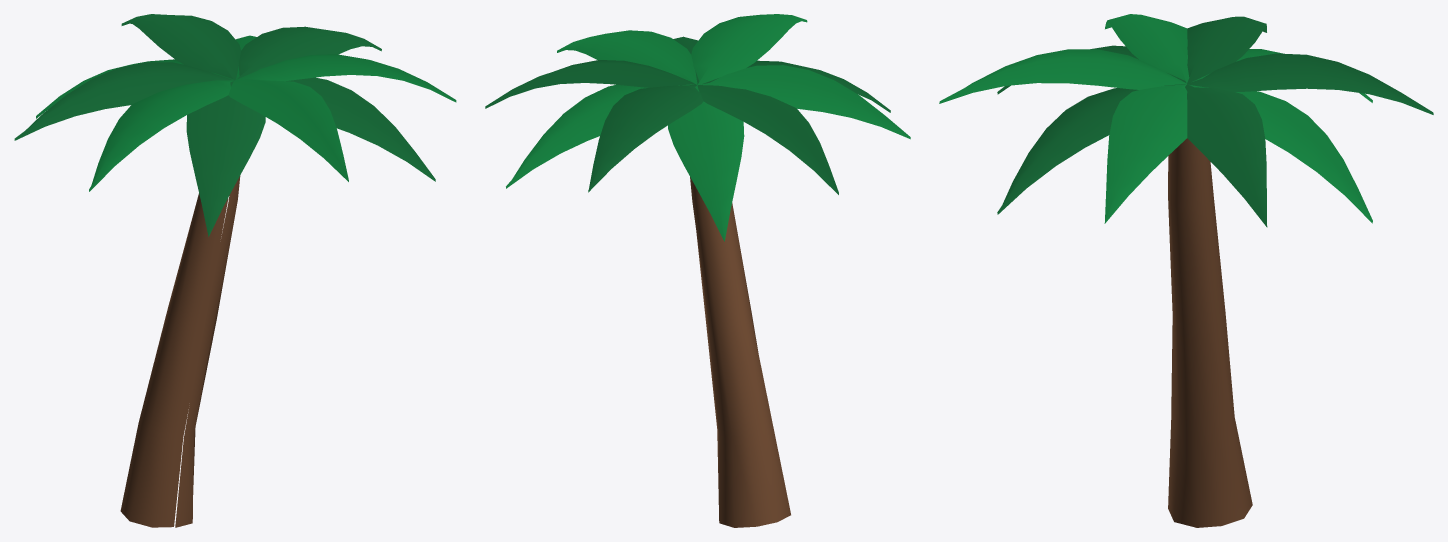
Rendered from tree_palm.gltf.
3 renders of one model, left to right at view 1: azimuth 30°, elevation 25°; view 2: azimuth 150°, elevation 25°; view 3: azimuth 270°, elevation 25°, orthographic. The views are drawn at different scales.
Parts seen in each view (by area): view 1: Trunk, Frond_9, Frond_7, Frond_0, Frond_8, Frond_5, Frond_1, Frond_3, Frond_2; view 2: Trunk, Frond_6, Frond_8, Frond_5, Frond_7, Frond_0, Frond_4, Frond_2, Frond_3, Frond_9; view 3: Trunk, Frond_2, Frond_3, Frond_0, Frond_5, Frond_1, Frond_4, Frond_8, Frond_7.
Boxes of the visible parts, bbox=[...] form: Trunk: bbox=[120, 176, 240, 527]; Frond_9: bbox=[186, 81, 265, 236]; Frond_7: bbox=[14, 62, 234, 140]; Frond_0: bbox=[228, 79, 348, 181]; Frond_8: bbox=[89, 80, 233, 191]; Frond_5: bbox=[121, 14, 240, 80]; Frond_1: bbox=[286, 77, 435, 181]; Frond_3: bbox=[236, 26, 381, 79]; Frond_2: bbox=[235, 54, 456, 102]; Trunk: bbox=[690, 177, 790, 527]; Frond_6: bbox=[668, 85, 744, 241]; Frond_8: bbox=[697, 65, 910, 139]; Frond_5: bbox=[588, 85, 703, 192]; Frond_7: bbox=[697, 85, 838, 194]; Frond_0: bbox=[691, 14, 807, 84]; Frond_4: bbox=[506, 84, 693, 188]; Frond_2: bbox=[557, 30, 697, 84]; Frond_3: bbox=[485, 60, 696, 108]; Frond_9: bbox=[702, 60, 890, 112]; Trunk: bbox=[1168, 138, 1252, 527]; Frond_2: bbox=[1104, 84, 1187, 223]; Frond_3: bbox=[1185, 84, 1267, 227]; Frond_0: bbox=[939, 49, 1186, 103]; Frond_5: bbox=[1187, 53, 1433, 114]; Frond_1: bbox=[997, 84, 1185, 214]; Frond_4: bbox=[1189, 85, 1372, 223]; Frond_8: bbox=[1105, 14, 1189, 83]; Frond_7: bbox=[1187, 16, 1266, 83].
Bounding box in the file's own units: 2.89 × 3.39 × 3.1.
